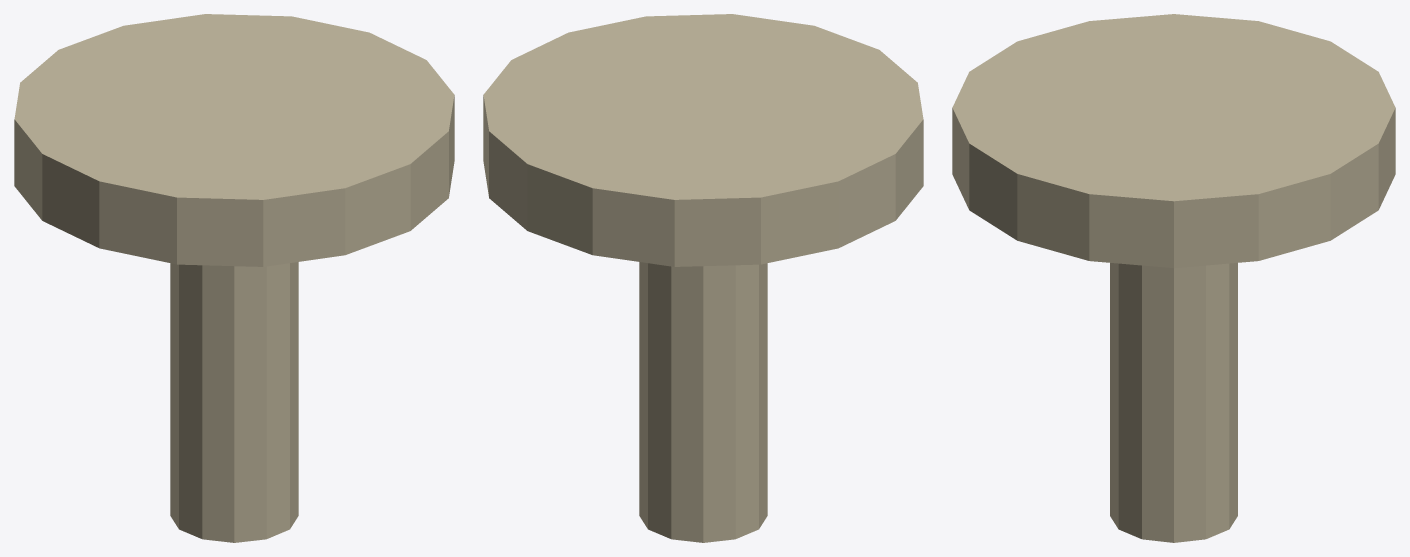
File: birdbath.glb
The picture shows the model from 3 angles, left to right: view 1: azimuth 30°, elevation 25°; view 2: azimuth 150°, elevation 25°; view 3: azimuth 270°, elevation 25°; orthographic projection.
Visible parts, largest first — view 1: birdbath; view 2: birdbath; view 3: birdbath.
Boxes of the visible parts, box(x1,y1,x2,y2) form: birdbath: box(14, 14, 454, 542); birdbath: box(483, 14, 923, 542); birdbath: box(952, 14, 1395, 542).
Size of the model in its own units: 0.9 by 0.915 by 0.9.
